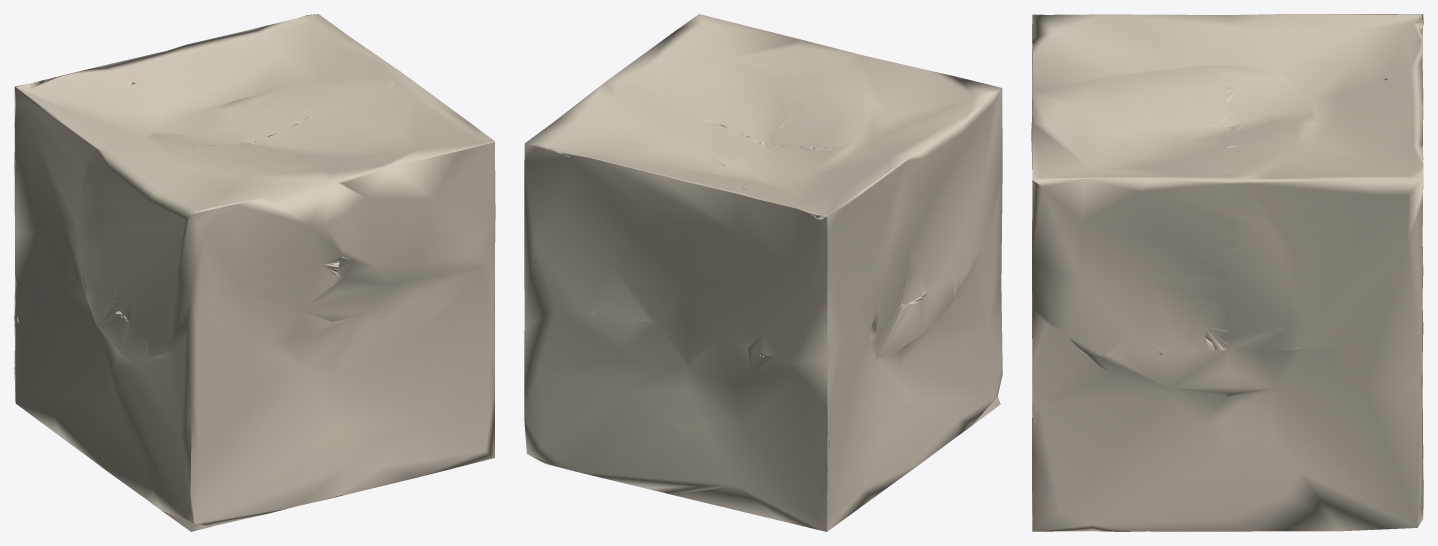
The model's file is mushroom+cube.obj.
3 renders of one model, left to right at view 1: azimuth 30°, elevation 25°; view 2: azimuth 150°, elevation 25°; view 3: azimuth 270°, elevation 25°, orthographic. The views are drawn at different scales.
Visible parts, largest first — view 1: meshes[0]; view 2: meshes[0]; view 3: meshes[0].
Boxes of the visible parts, x1=… form: meshes[0]: x1=14, y1=14, x2=495, y2=531; meshes[0]: x1=524, y1=14, x2=1002, y2=531; meshes[0]: x1=1031, y1=14, x2=1423, y2=531.
Bounding box in the file's own units: 0.9773 × 0.9697 × 0.9771.
Materials: 1 (1 with a texture image).
